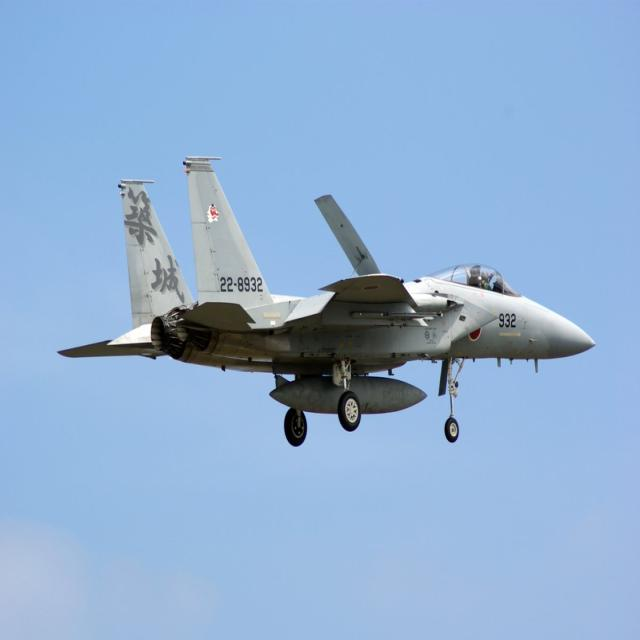MIL_Plane: (56, 155, 598, 448)
